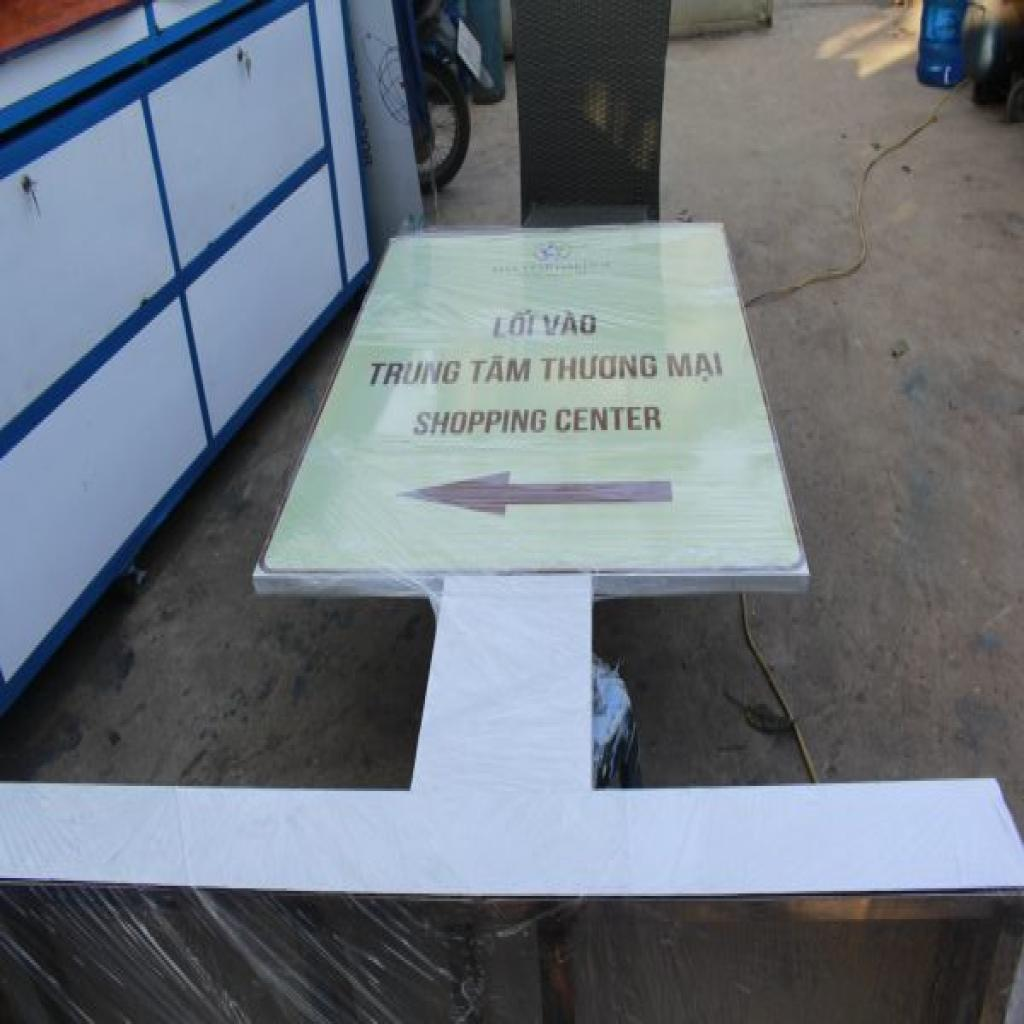text: (410, 402, 550, 443), (536, 348, 660, 389), (365, 350, 466, 392), (664, 343, 725, 394), (466, 348, 536, 392), (486, 302, 541, 343), (543, 304, 602, 340)
